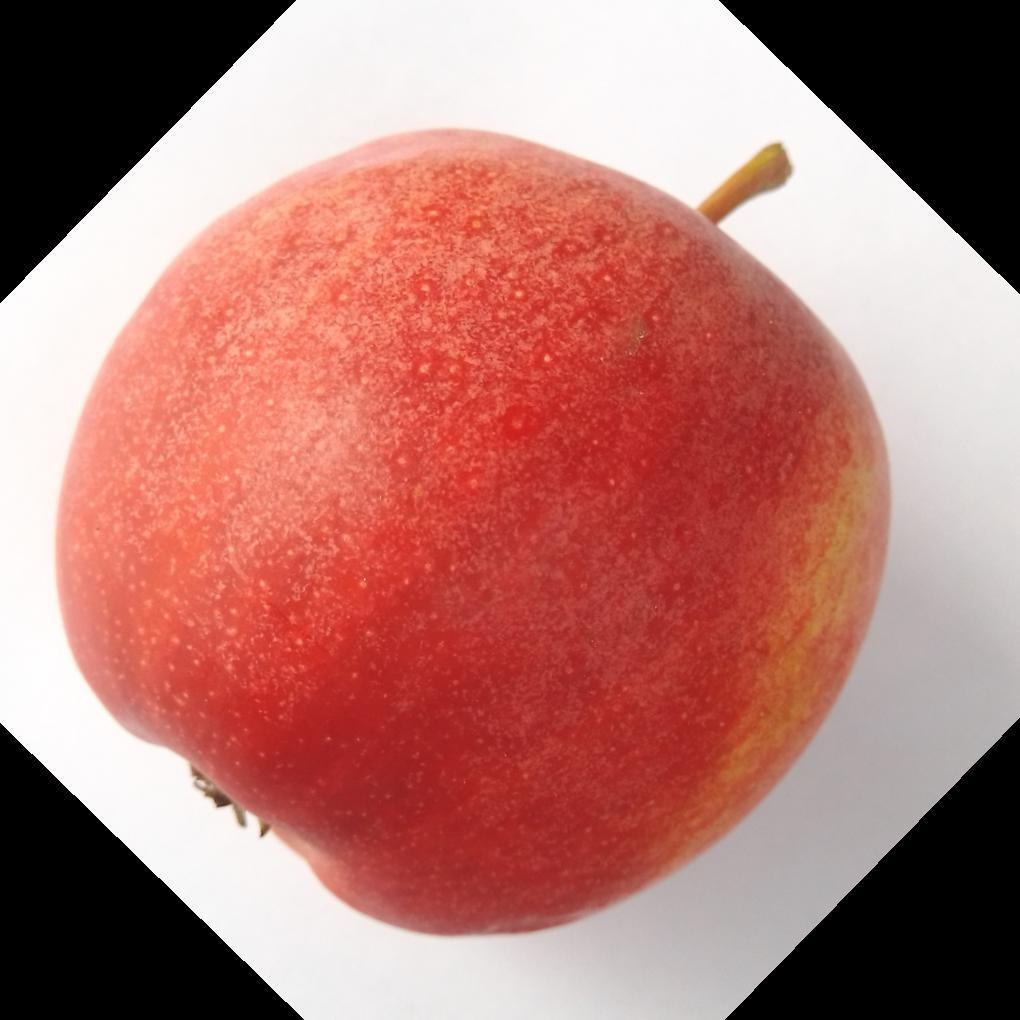FreshGuava: (42, 126, 895, 946)
